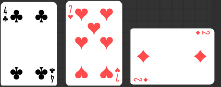2D: (194, 29, 211, 36)
4C: (48, 66, 56, 83)
7H: (113, 66, 120, 83)
